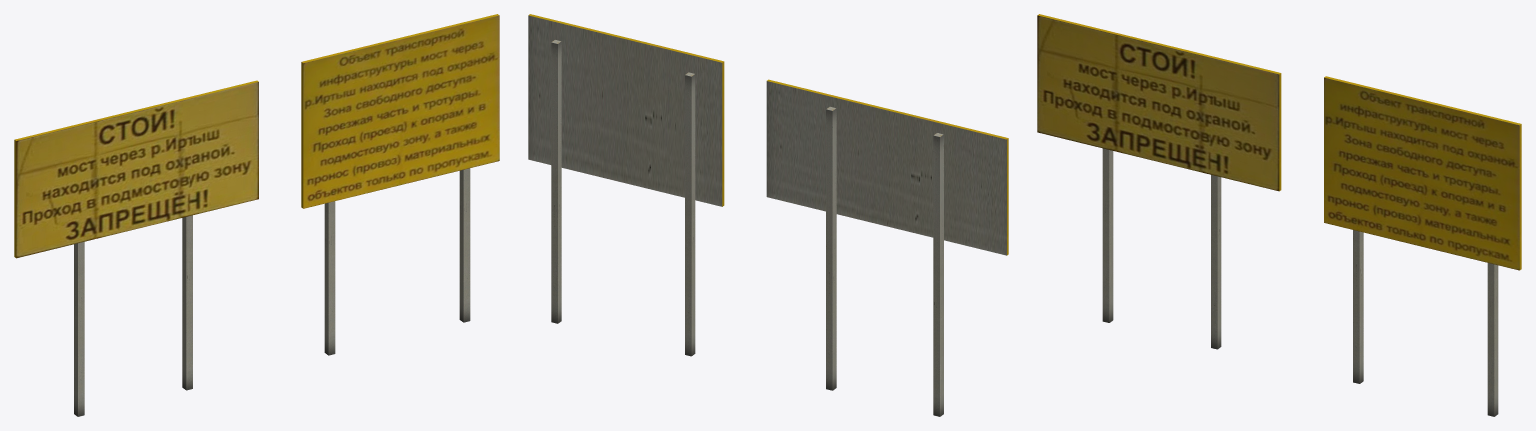
File: r254_most_znaki.FBX
The picture shows the model from 3 angles, left to right: view 1: azimuth 30°, elevation 25°; view 2: azimuth 150°, elevation 25°; view 3: azimuth 330°, elevation 25°; orthographic projection.
Visible parts, largest first — view 1: baner1, baner2; view 2: baner1, baner2; view 3: baner1, baner2.
Part boxes in pixels (left/top/right/bottom): baner1: left=14, top=80, right=258, bottom=416; baner2: left=301, top=14, right=499, bottom=355; baner1: left=766, top=79, right=1008, bottom=416; baner2: left=528, top=14, right=724, bottom=356; baner1: left=1037, top=14, right=1281, bottom=349; baner2: left=1324, top=76, right=1521, bottom=416.
Bounding box in the file's own units: 7.16 × 0.1544 × 4.25.
